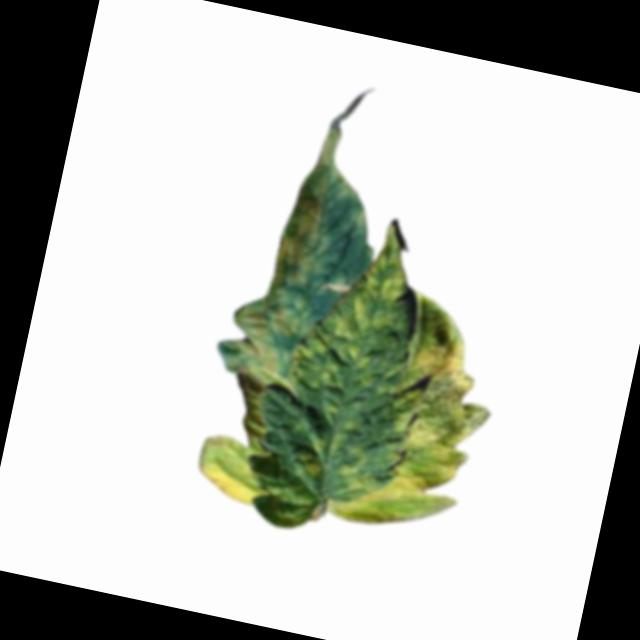Leaf_Mold: (186, 109, 543, 564)
